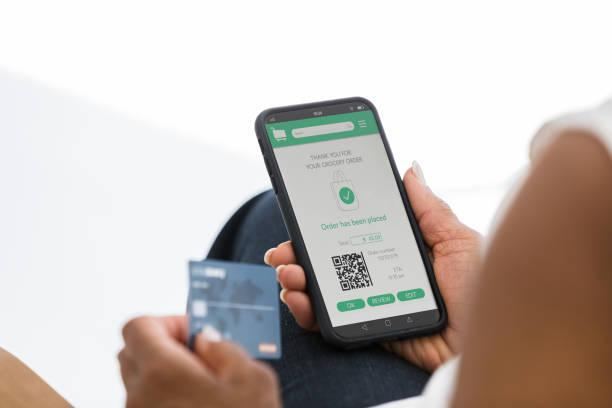Finder pattern: (330, 253, 343, 268), (340, 277, 352, 293)
